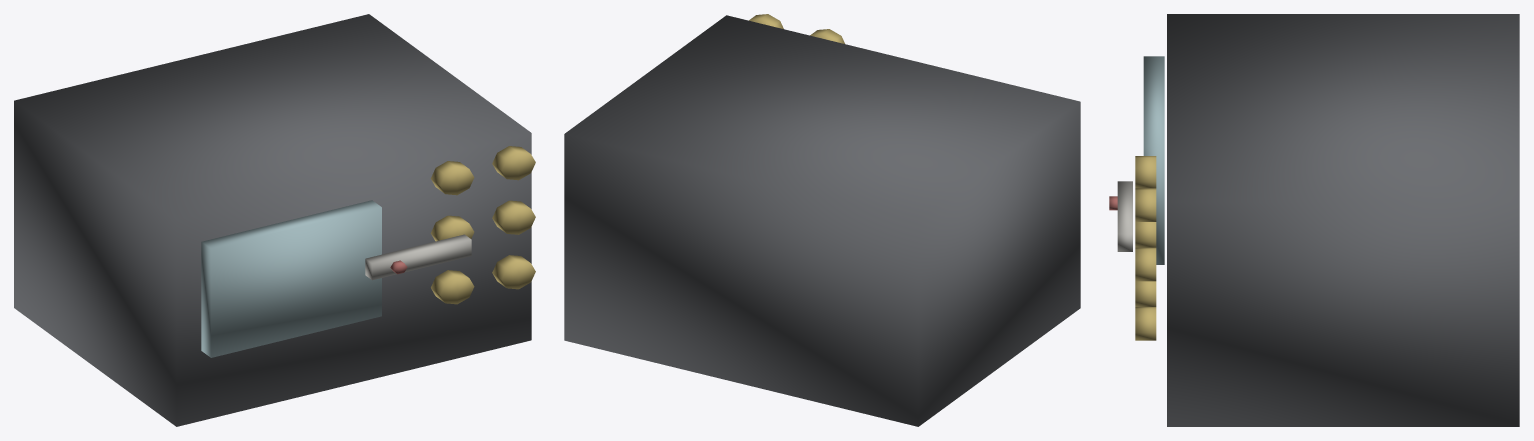
File: oscilloscope__squat.glb
3 views of the same model, side by side, from view 1: azimuth 30°, elevation 25°; view 2: azimuth 150°, elevation 25°; view 3: azimuth 270°, elevation 25° (orthographic). The views are drawn at different scales.
Parts seen in each view (by area): view 1: world; view 2: world; view 3: world.
Part boxes in pixels (left/top/right/bottom): world: left=14, top=14, right=535, bottom=426; world: left=564, top=14, right=1080, bottom=426; world: left=1109, top=14, right=1519, bottom=426.
Size of the model in its own units: 0.572 by 0.3192 by 0.5276.
